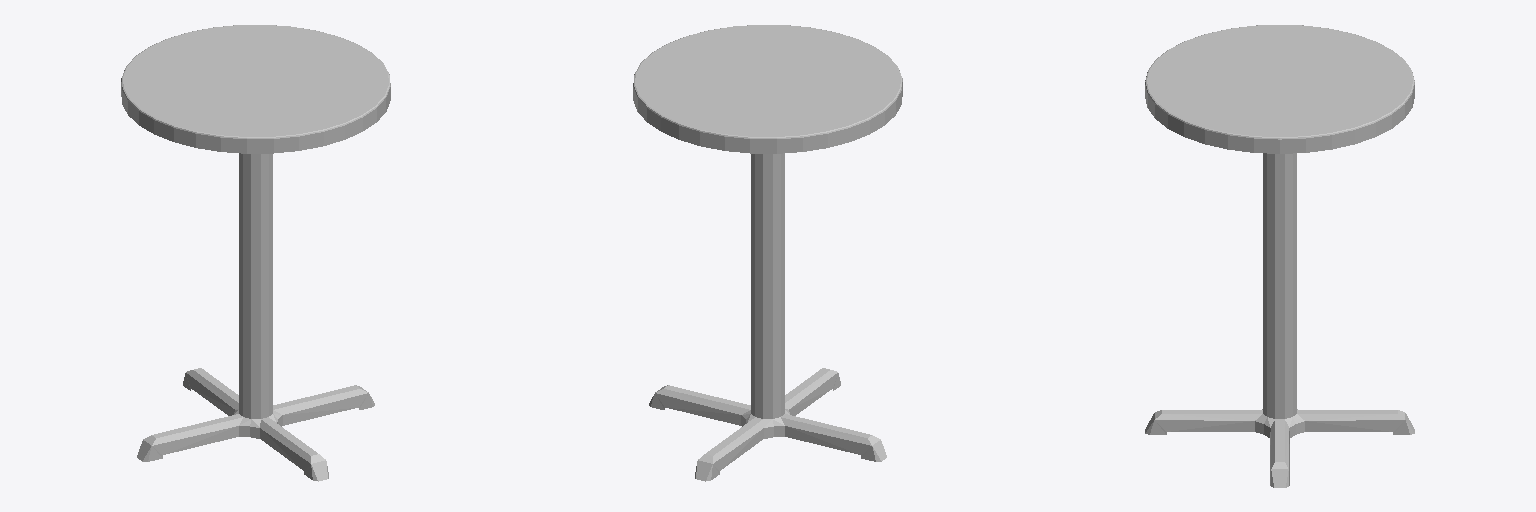
The model's file is Tables.obj.
3 renders of one model, left to right at view 1: azimuth 30°, elevation 25°; view 2: azimuth 150°, elevation 25°; view 3: azimuth 270°, elevation 25°, orthographic.
Parts seen in each view (by area): view 1: table_hightop; view 2: table_hightop; view 3: table_hightop.
Part boxes in pixels (bbox=[...]): table_hightop: bbox=[121, 25, 390, 481]; table_hightop: bbox=[633, 25, 902, 481]; table_hightop: bbox=[1145, 25, 1414, 487].
Size of the model in its own units: 1.52 by 2.18 by 1.52.